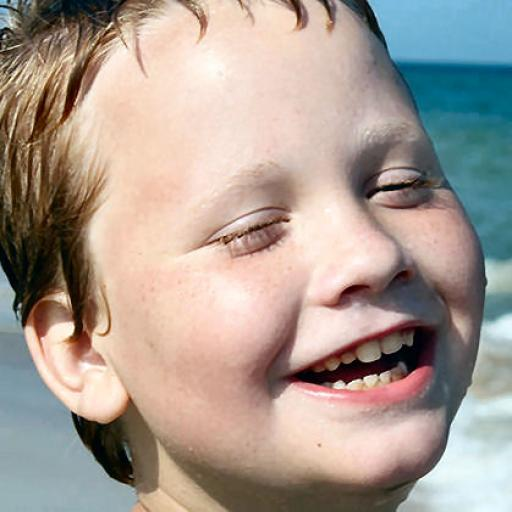Autism: (5, 5, 512, 507)
